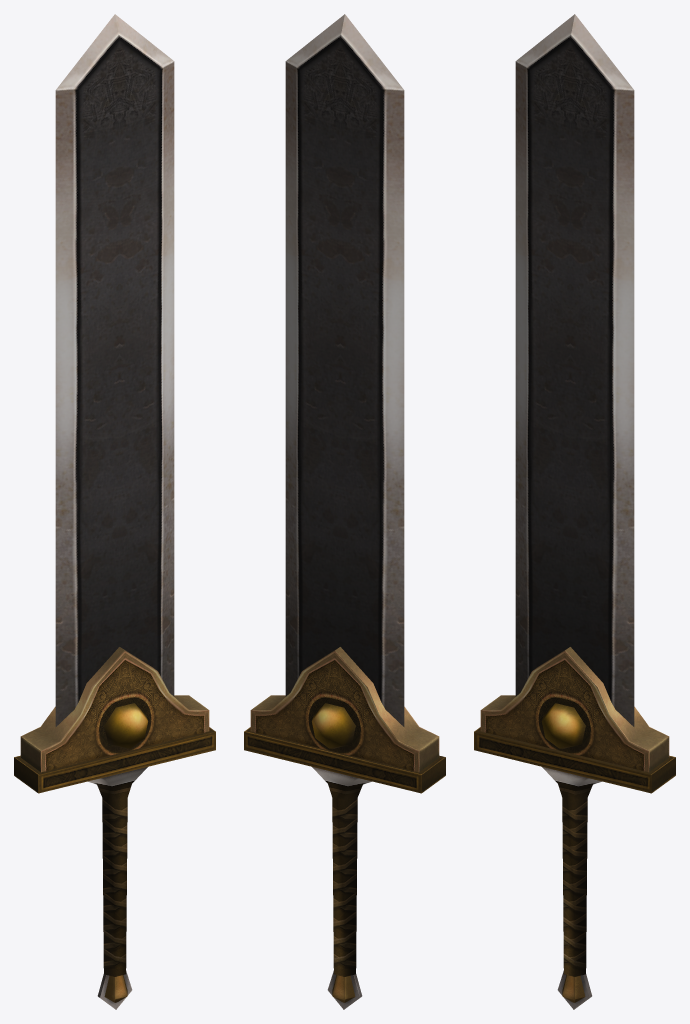
The model's file is 51_weapon.FBX.
3 renders of one model, left to right at view 1: azimuth 30°, elevation 25°; view 2: azimuth 150°, elevation 25°; view 3: azimuth 330°, elevation 25°, orthographic.
Visible parts, largest first — view 1: 51_sword; view 2: 51_sword; view 3: 51_sword.
Boxes of the visible parts, x1,y1,x2,y2 form: 51_sword: [14, 14, 215, 1009]; 51_sword: [244, 14, 445, 1009]; 51_sword: [474, 14, 675, 1009].
Bounding box in the file's own units: 529 × 2832 × 213.
